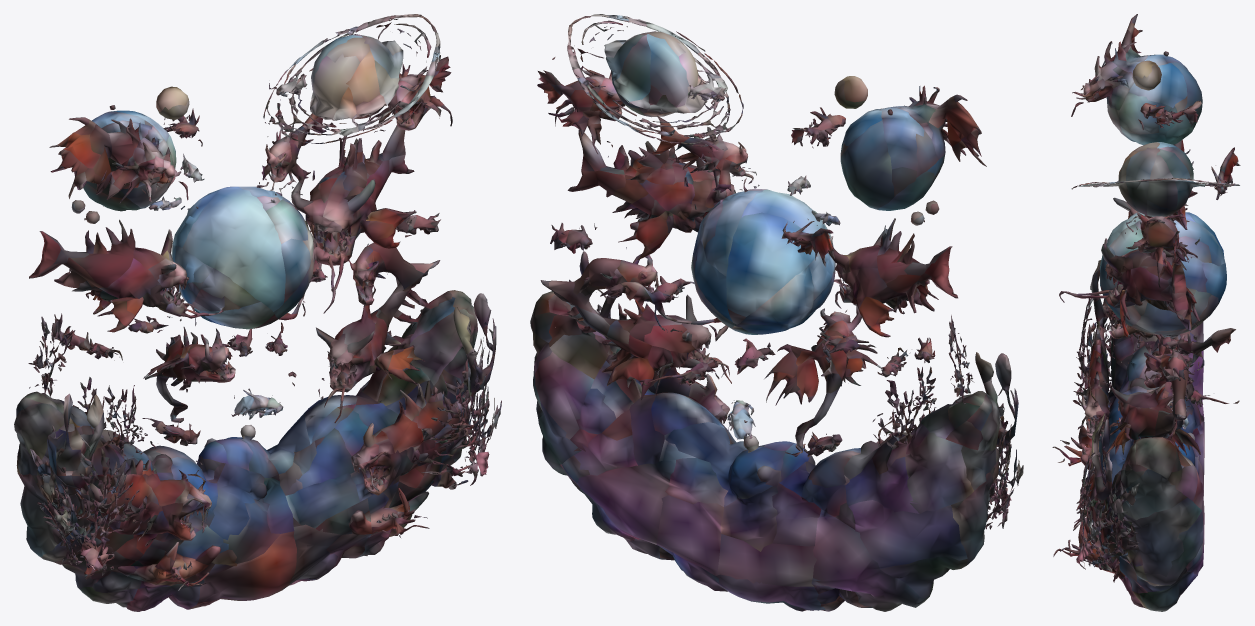
Rendered from oceanic-cosmos.glb.
The picture shows the model from 3 angles, left to right: view 1: azimuth 30°, elevation 25°; view 2: azimuth 150°, elevation 25°; view 3: azimuth 270°, elevation 25°; orthographic projection. The views are drawn at different scales.
Bounding box in the file's own units: 1.7 × 1.9 × 0.6798.
1 material, 1 textured.
